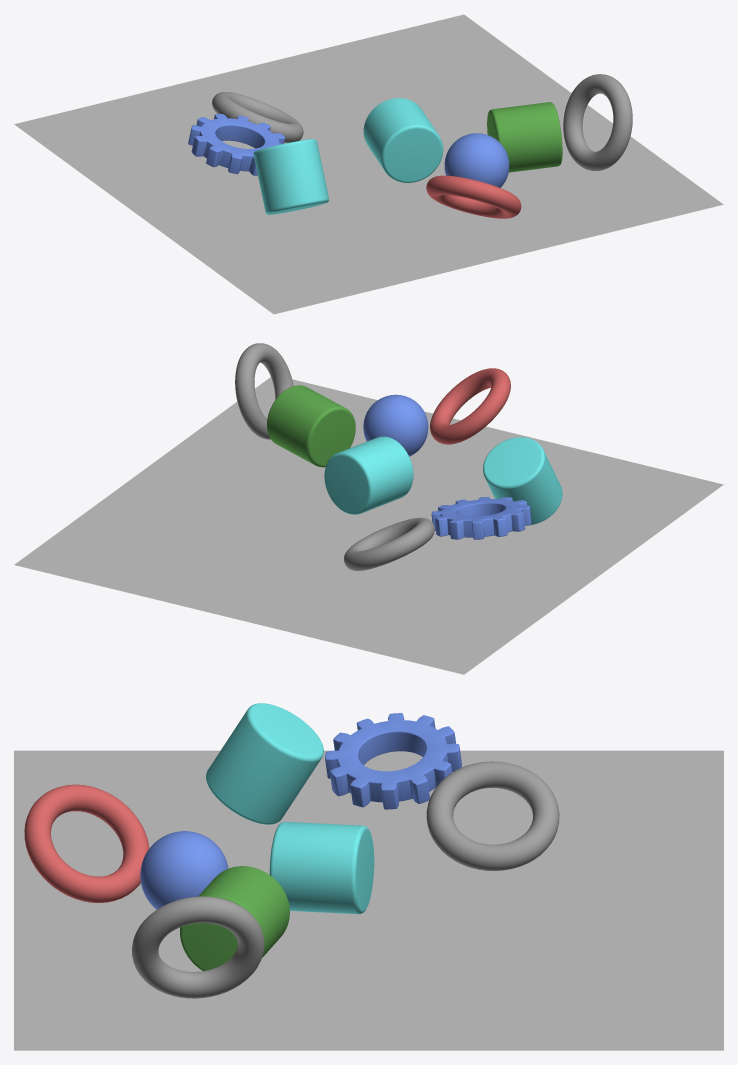
3 renders of one model, top to bottom at view 1: azimuth 30°, elevation 25°; view 2: azimuth 150°, elevation 25°; view 3: azimuth 270°, elevation 25°, orthographic. The views are drawn at different scales.
Visible parts, largest first — view 1: Cube, FileBasedObject.001, FileBasedObject.005, FileBasedObject.004, FileBasedObject, FileBasedObject.003, FileBasedObject.006, FileBasedObject.007, FileBasedObject.002; view 2: Cube, FileBasedObject.001, FileBasedObject.004, FileBasedObject.005, FileBasedObject.006, FileBasedObject.003, FileBasedObject.002, FileBasedObject, FileBasedObject.007; view 3: Cube, FileBasedObject.005, FileBasedObject.003, FileBasedObject.001, FileBasedObject.002, FileBasedObject.006, FileBasedObject, FileBasedObject.004, FileBasedObject.007.
Part boxes in pixels (bbox=[...]): Cube: bbox=[14, 14, 723, 314]; FileBasedObject.001: bbox=[363, 98, 443, 182]; FileBasedObject.005: bbox=[253, 139, 328, 214]; FileBasedObject.004: bbox=[487, 102, 562, 172]; FileBasedObject: bbox=[563, 74, 632, 170]; FileBasedObject.003: bbox=[188, 114, 285, 175]; FileBasedObject.006: bbox=[426, 175, 521, 218]; FileBasedObject.007: bbox=[444, 133, 509, 187]; FileBasedObject.002: bbox=[212, 92, 303, 142]; Cube: bbox=[14, 377, 723, 674]; FileBasedObject.001: bbox=[324, 436, 413, 514]; FileBasedObject.004: bbox=[266, 385, 355, 467]; FileBasedObject.005: bbox=[483, 437, 562, 525]; FileBasedObject.006: bbox=[430, 368, 510, 444]; FileBasedObject.003: bbox=[431, 496, 531, 539]; FileBasedObject.002: bbox=[344, 517, 434, 570]; FileBasedObject: bbox=[235, 343, 293, 439]; FileBasedObject.007: bbox=[363, 394, 428, 456]; Cube: bbox=[14, 750, 723, 1050]; FileBasedObject.005: bbox=[206, 703, 323, 824]; FileBasedObject.003: bbox=[325, 713, 461, 809]; FileBasedObject.001: bbox=[269, 822, 374, 914]; FileBasedObject.002: bbox=[426, 761, 559, 870]; FileBasedObject.006: bbox=[24, 784, 149, 903]; FileBasedObject: bbox=[132, 896, 264, 998]; FileBasedObject.004: bbox=[180, 866, 289, 970]; FileBasedObject.007: bbox=[140, 831, 228, 909].
Size of the model in its own units: 8 by 1.51 by 8.
